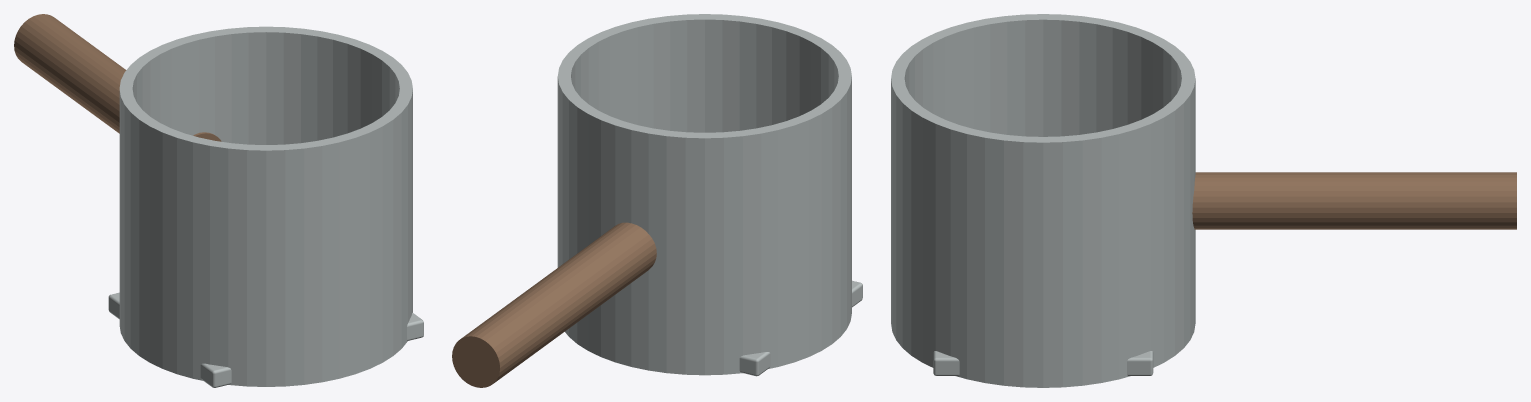
File: abandoned-cinema-and-projection-booth-abandoned-cinema-4174ff11__29723.glb
3 renders of one model, left to right at view 1: azimuth 30°, elevation 25°; view 2: azimuth 150°, elevation 25°; view 3: azimuth 270°, elevation 25°, orthographic. The views are drawn at different scales.
Visible parts, largest first — view 1: abandoned-cinema-and-projection-booth-popcorn-scoop; view 2: abandoned-cinema-and-projection-booth-popcorn-scoop; view 3: abandoned-cinema-and-projection-booth-popcorn-scoop.
Part boxes in pixels (bbox=[...]): abandoned-cinema-and-projection-booth-popcorn-scoop: bbox=[14, 14, 423, 387]; abandoned-cinema-and-projection-booth-popcorn-scoop: bbox=[452, 14, 862, 387]; abandoned-cinema-and-projection-booth-popcorn-scoop: bbox=[891, 14, 1516, 387].
Size of the model in its own units: 0.18 by 0.16 by 0.37.
